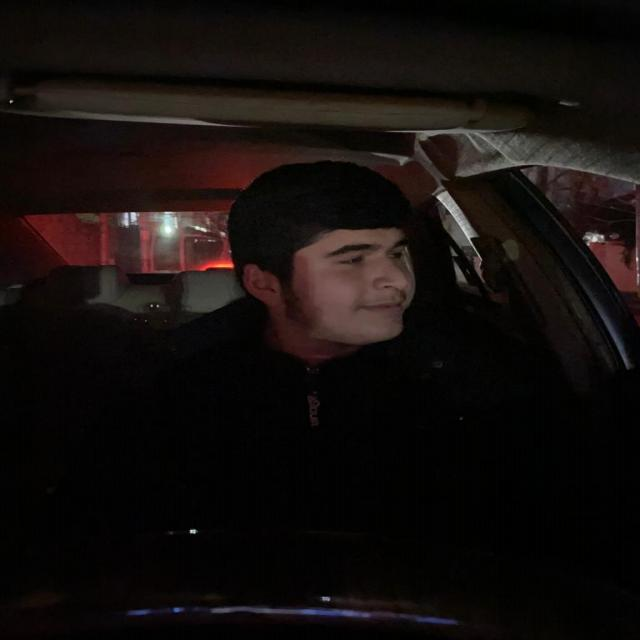LeftRight: (223, 162, 428, 351)
